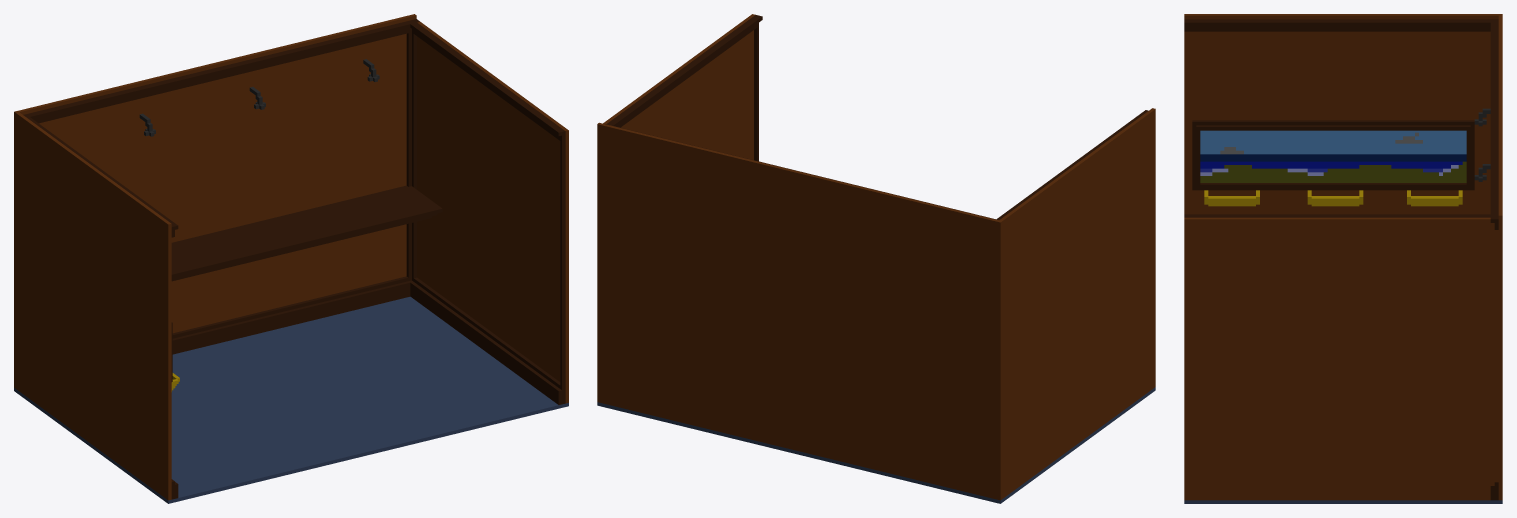
File: Level1-20-14-13.obj
3 renders of one model, left to right at view 1: azimuth 30°, elevation 25°; view 2: azimuth 150°, elevation 25°; view 3: azimuth 270°, elevation 25°, orthographic. The views are drawn at different scales.
Visible parts, largest first — view 1: Level1-20-14-13; view 2: Level1-20-14-13; view 3: Level1-20-14-13.
Boxes of the visible parts, x1,y1,x2,y2 form: Level1-20-14-13: (14,14,568,503); Level1-20-14-13: (597,14,1155,503); Level1-20-14-13: (1184,14,1502,503).
Bounding box in the file's own units: 120 × 80 × 80.
Materials: 1 (1 with a texture image).
